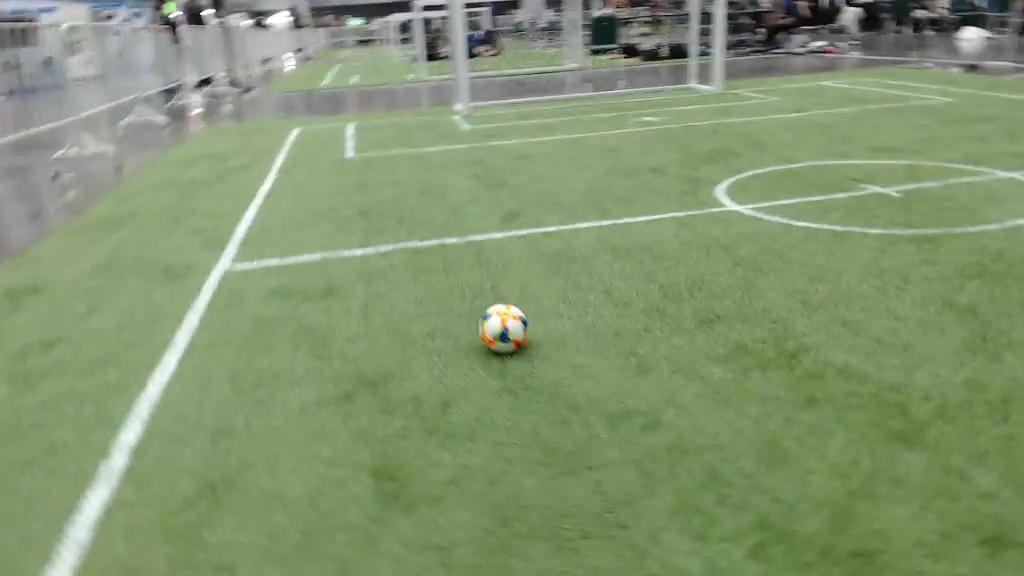ball: (481, 305, 528, 353)
